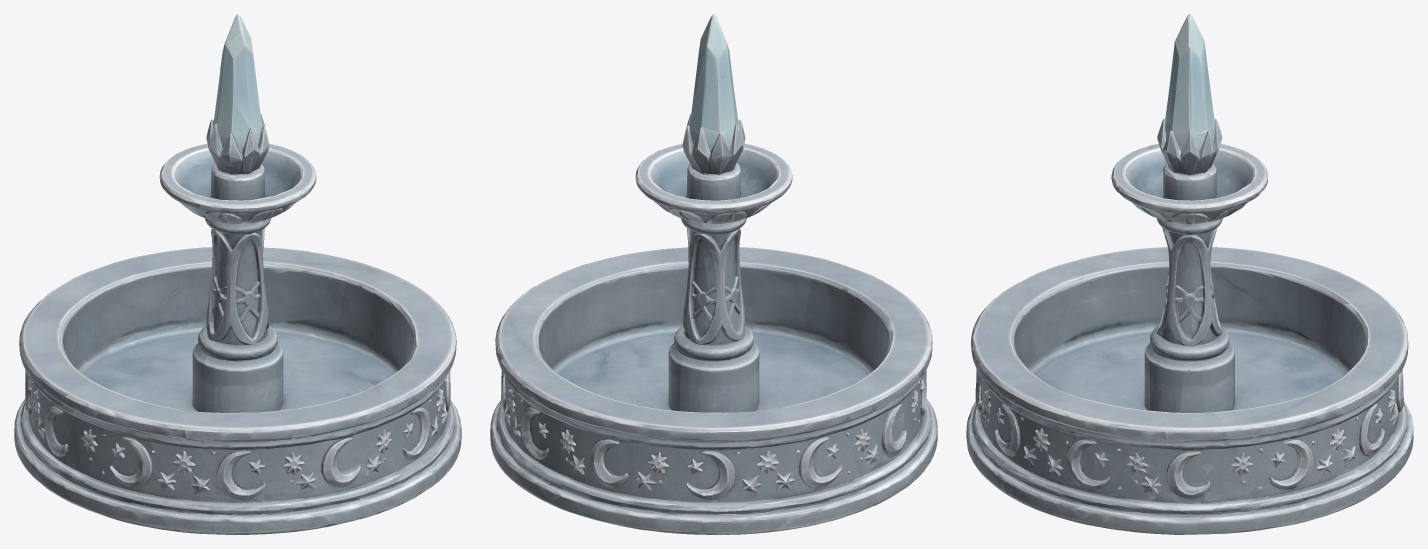
File: hf_fountain2.glb
3 views of the same model, side by side, from view 1: azimuth 30°, elevation 25°; view 2: azimuth 150°, elevation 25°; view 3: azimuth 270°, elevation 25° (orthographic).
Size of the model in its own units: 1.79 by 1.9 by 1.8.
Materials: 1 (1 with a texture image).
